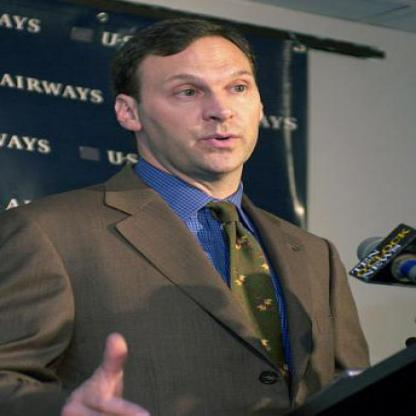face: (135, 21, 271, 176)
